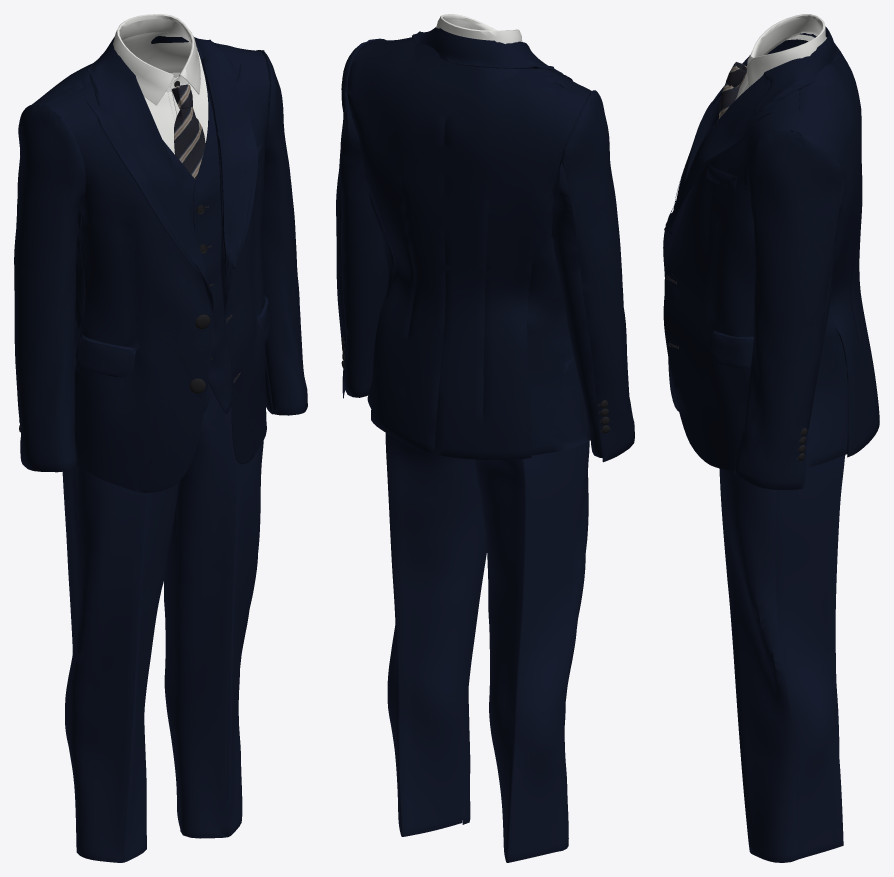
The model's file is MW_Tailleur_suit_v4_blender_collarfix4_peak_step2c_onepiece.glb.
3 views of the same model, side by side, from view 1: azimuth 30°, elevation 25°; view 2: azimuth 150°, elevation 25°; view 3: azimuth 270°, elevation 25° (orthographic). The views are drawn at different scales.
Visible parts, largest first — view 1: Jacket, Trousers, Shirt, Waistcoat, Tie, Trim; view 2: Jacket, Trousers, Shirt, Waistcoat; view 3: Jacket, Trousers, Shirt, Tie.
Boxes of the visible parts, <box> form: Jacket: <box>14,36,307,492</box>; Trousers: <box>62,383,263,862</box>; Shirt: <box>113,14,208,154</box>; Waistcoat: <box>75,41,231,413</box>; Tie: <box>172,84,205,179</box>; Trim: <box>19,81,210,432</box>; Jacket: <box>336,27,634,462</box>; Trousers: <box>385,339,589,862</box>; Shirt: <box>436,14,522,43</box>; Waistcoat: <box>414,44,519,81</box>; Jacket: <box>663,26,879,489</box>; Trousers: <box>719,455,845,862</box>; Shirt: <box>735,14,826,100</box>; Tie: <box>719,62,746,118</box>.
Size of the model in its own units: 0.5389 by 1.5 by 0.3678.
8 materials, 4 textured.
